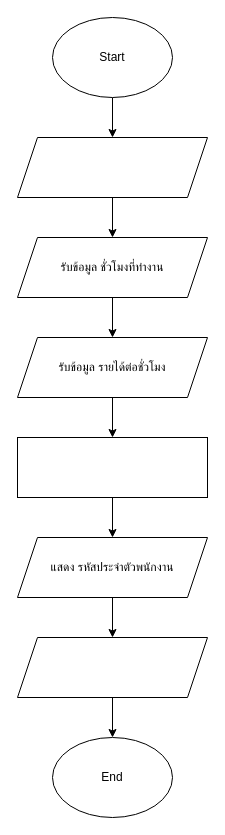
Some shapes in this 225 by 835 pixel diagram are drawn without their labels. The shapes that lost their labels are listed below. From the top down, each one's centre as x and y in pixels, then its label:
the point at 112,167: รับข้อมูล รหัสประจำตัวพนักงาน
the point at 112,467: คำนวณ ชั่วโมงที่ทำงาน x รายได้ต่อชั่วโมง
the point at 112,667: แสดง เงินเดือนของ พนักงาน
